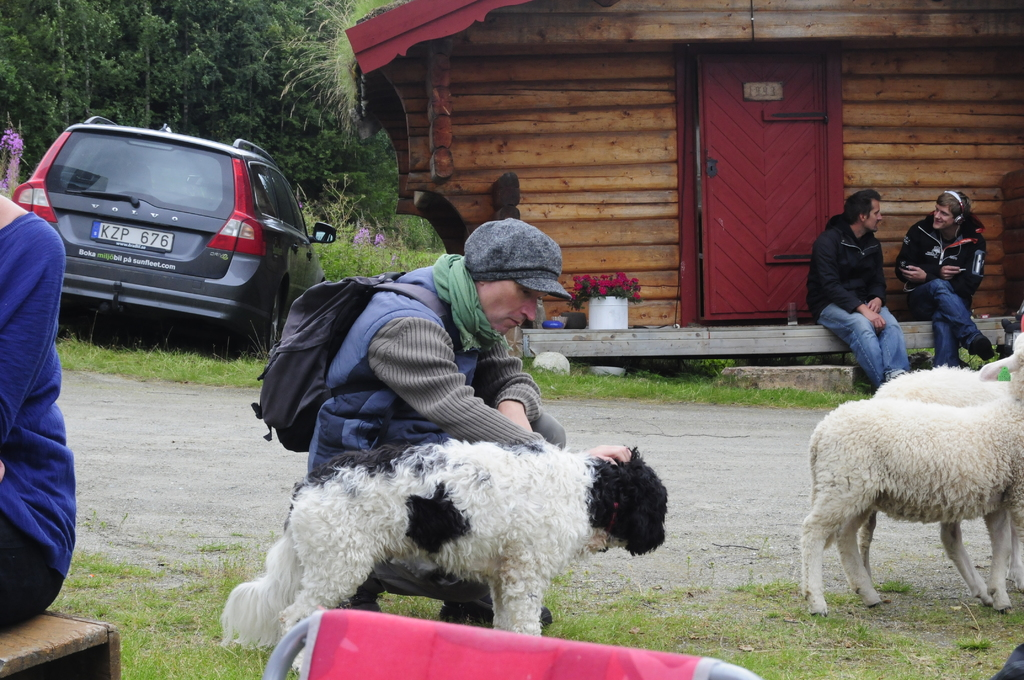mobil: (17, 103, 317, 363)
